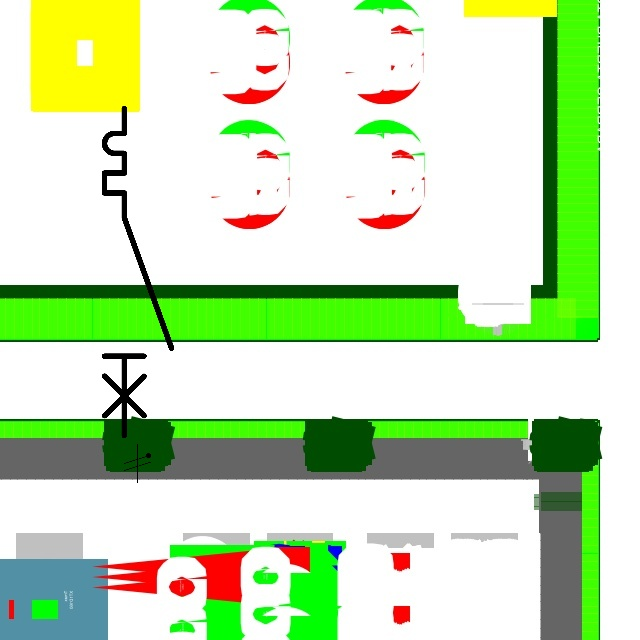interruptor_termomagnetico: (96, 100, 180, 444)
